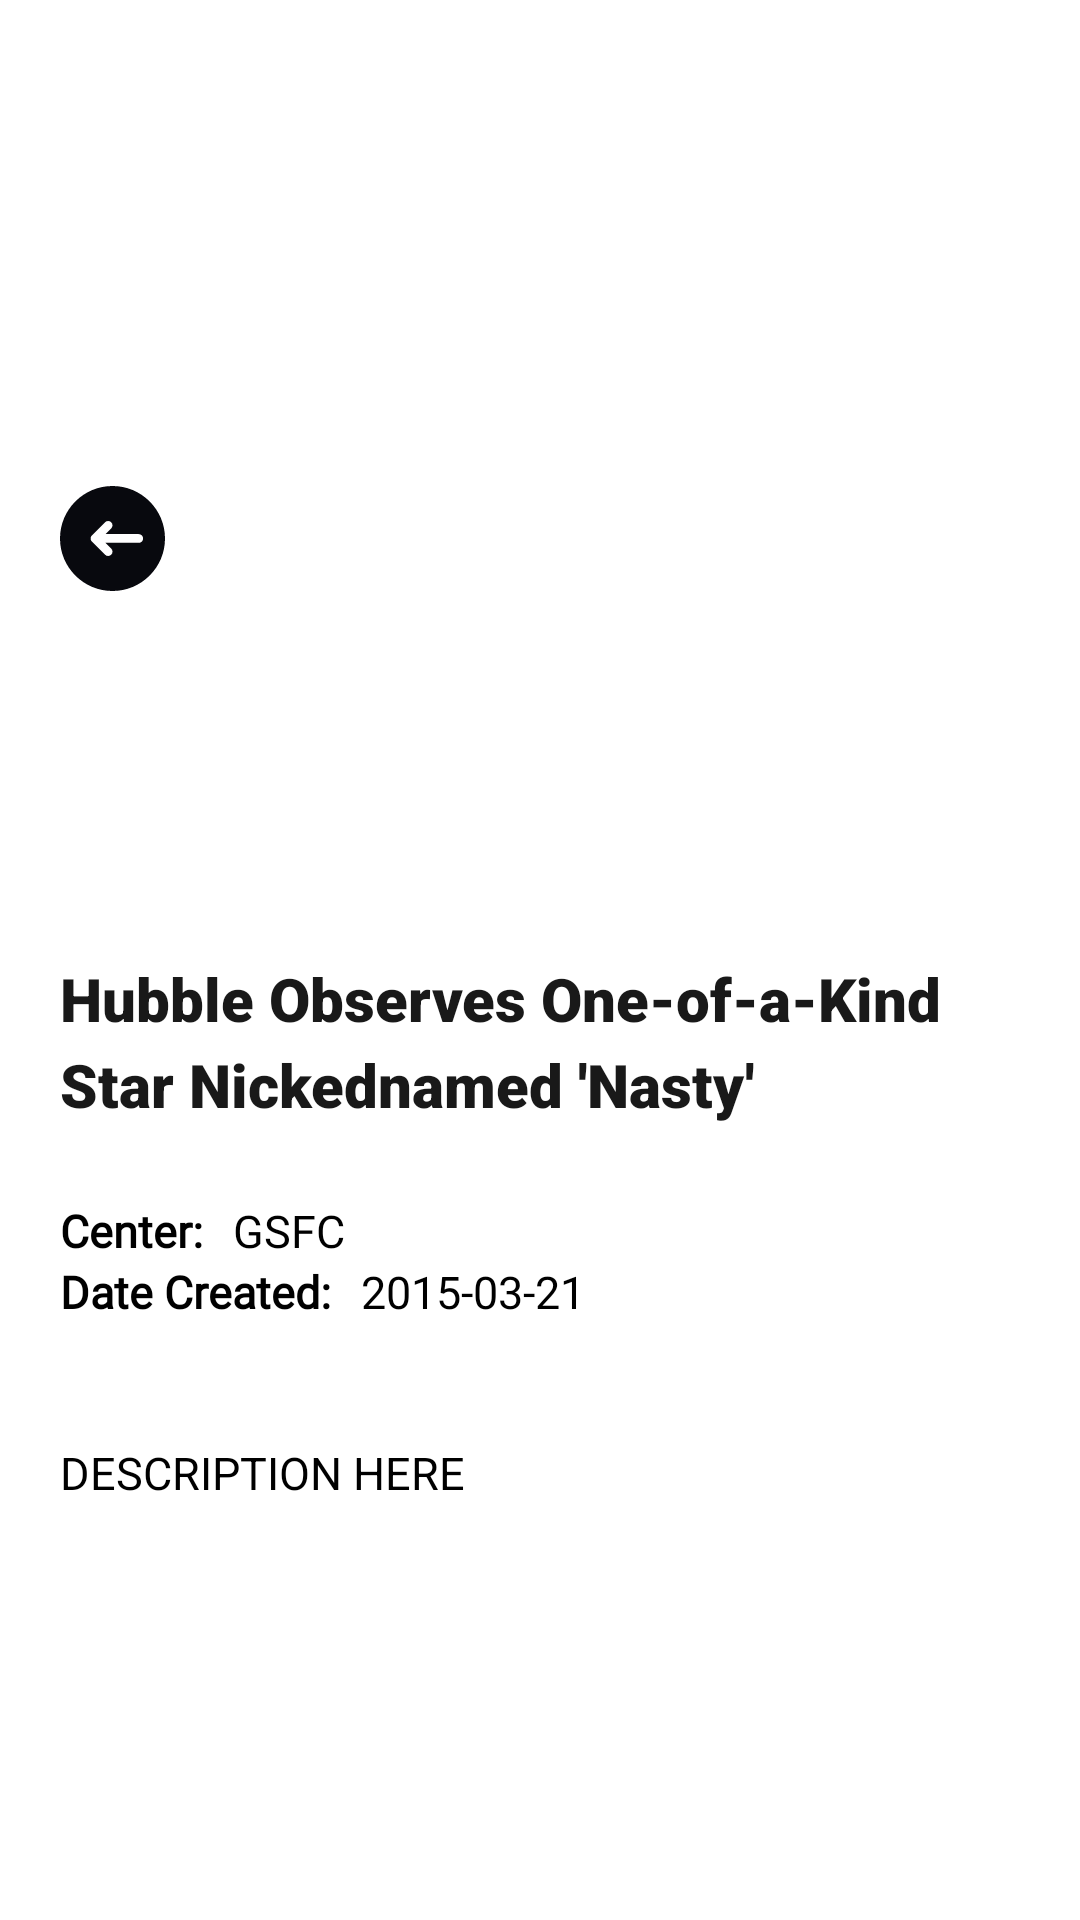

Named icons in this screenshot (1080w x 1920h) and their centers, (x,y):
back arrow: (112,538)
